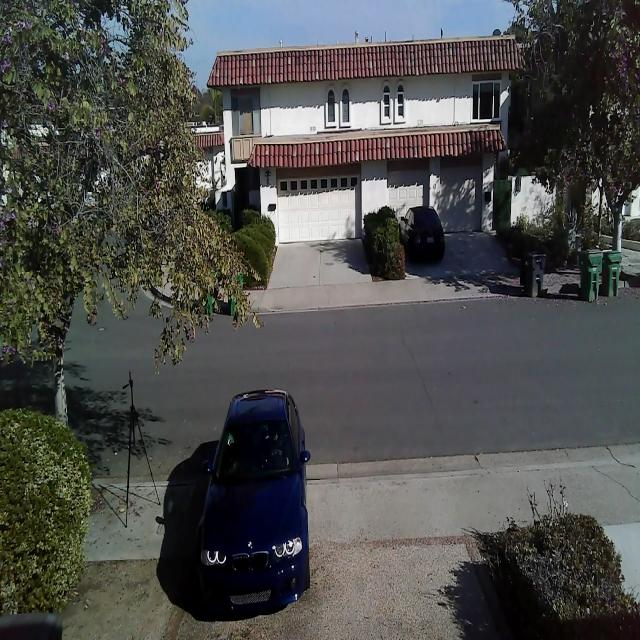Carbeetle: (189, 374, 317, 637)
